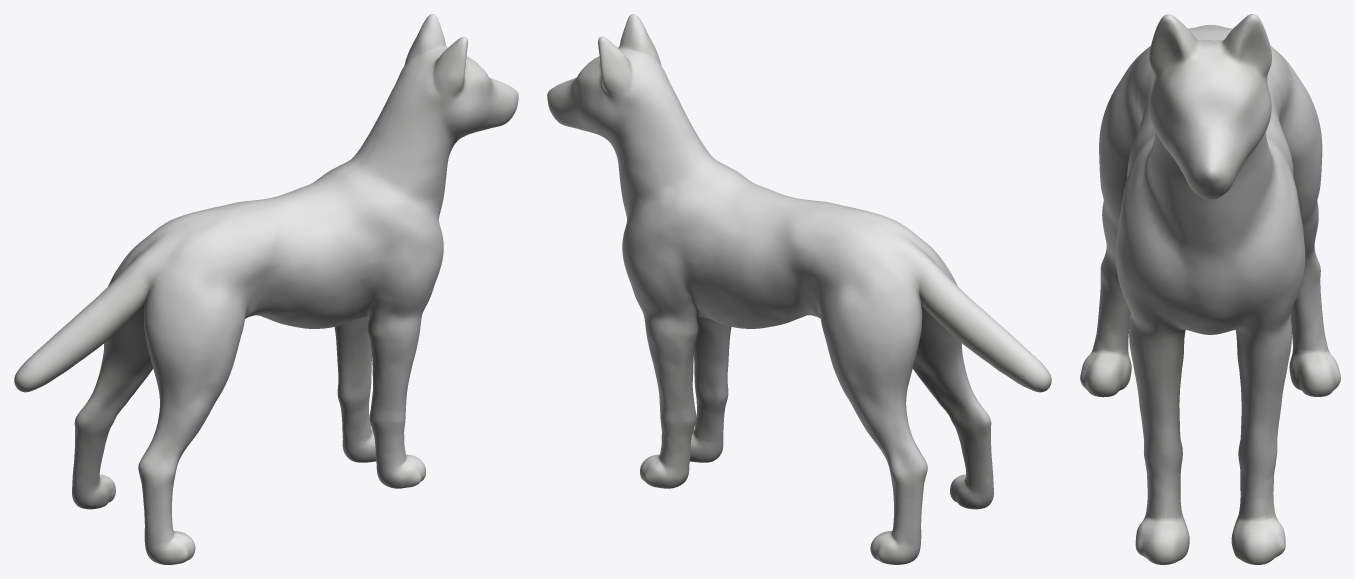
The model's file is dog.glb.
3 views of the same model, side by side, from view 1: azimuth 30°, elevation 25°; view 2: azimuth 150°, elevation 25°; view 3: azimuth 270°, elevation 25° (orthographic). The views are drawn at different scales.
Parts seen in each view (by area): view 1: tripo_node_964629f9-c329-4a94-8d22-4e1602e9fcba; view 2: tripo_node_964629f9-c329-4a94-8d22-4e1602e9fcba; view 3: tripo_node_964629f9-c329-4a94-8d22-4e1602e9fcba.
Boxes of the visible parts, x1,y1,x2,y2 form: tripo_node_964629f9-c329-4a94-8d22-4e1602e9fcba: [14, 14, 518, 564]; tripo_node_964629f9-c329-4a94-8d22-4e1602e9fcba: [547, 14, 1051, 564]; tripo_node_964629f9-c329-4a94-8d22-4e1602e9fcba: [1080, 14, 1340, 564].
Bounding box in the file's own units: 1 × 0.814 × 0.332.
Materials: 1 (1 with a texture image).
